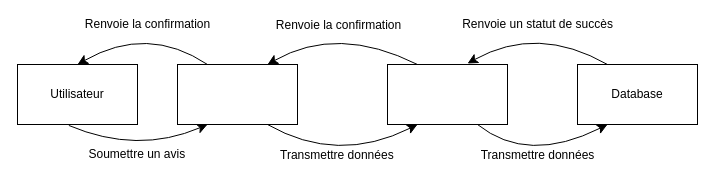
Image size: 715x179. Some labels were removed from this diagram. Here are the shapes that lost their labels. From the top down, the box of each, then its label:
(176, 64, 298, 124): API
(386, 64, 508, 124): BusinessLogic
